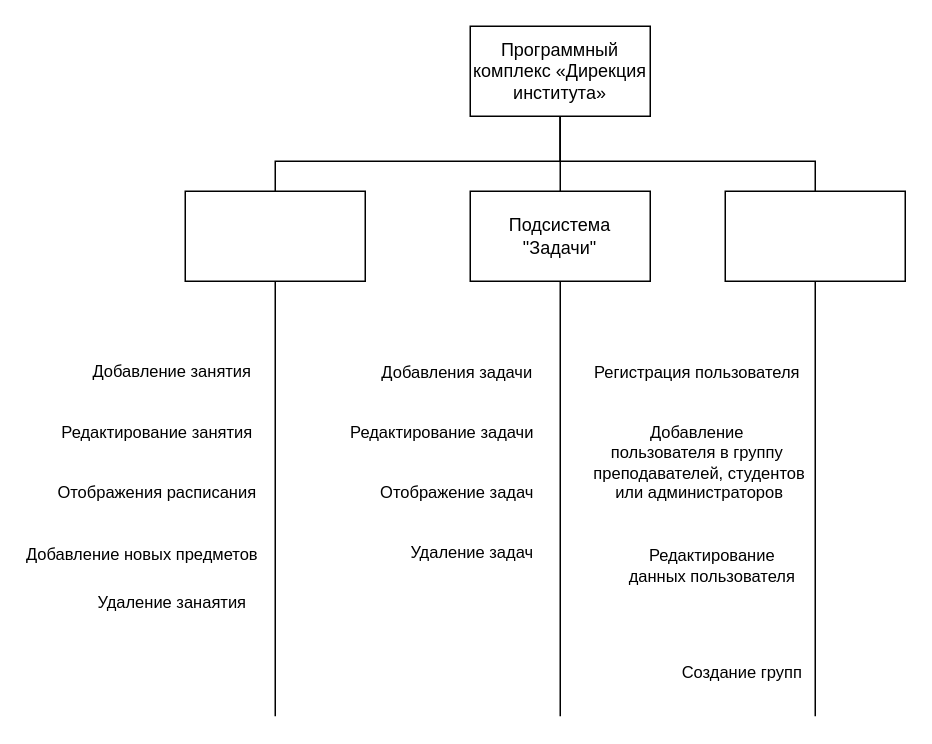
Some shapes in this 932 by 744 pixel diagram are drawn without their labels. Here are the shapes that lost their labels. From the top down, the centre of each, then its label:
[274,235]: Подсистема "Расписание занятий"
[814,235]: Подсистема "Администрирование пользователей"
